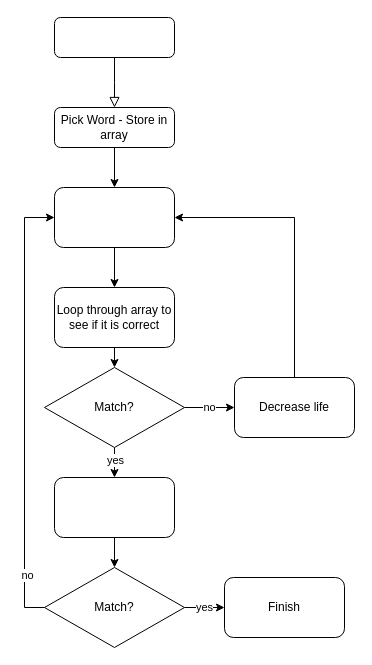
The diagram is 372 pixels wide and 665 high, and some of its shapes have lost their labels. The shapes that lost their labels are listed below. From the top down, each one's centre as x and y in pixels, then its label:
point 114,37: Hangman
point 114,217: Player selects letter
point 114,507: Update guess array
